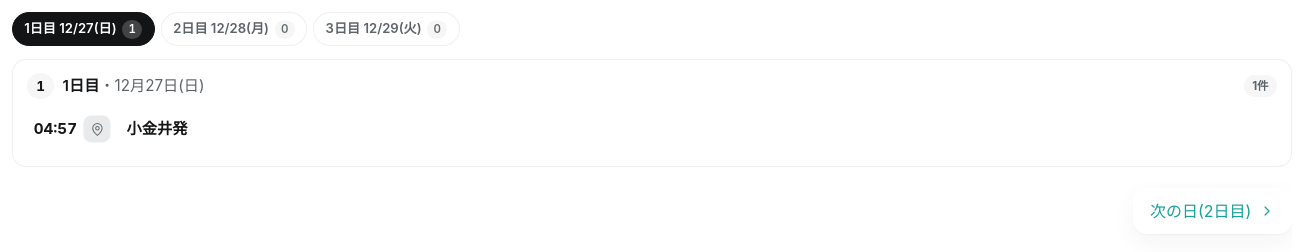
日程を、日にちごとに切り替える › 予定の無い日のチップは、件数 0。その日を選ぶと「予定を追加」が出る
This screenshot has width=1304, height=252.
Step 1. Click the button "2日目 12/28(月) 0" → (234, 29), box x1=161 y1=12 x2=307 y2=46
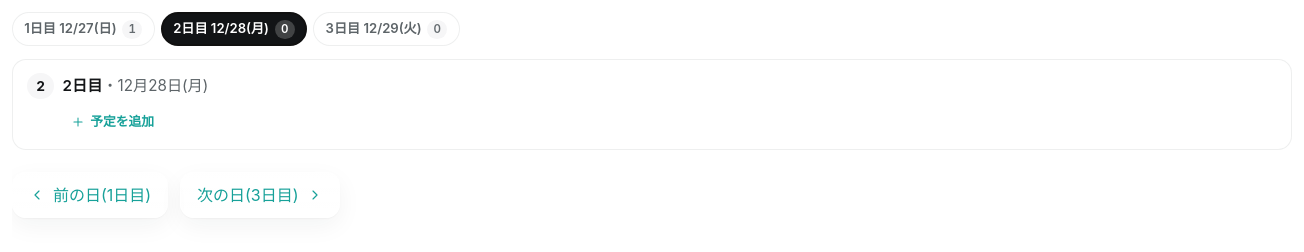
Check: the button "予定を追加" is shown, box x1=63 y1=106 x2=163 y2=138
